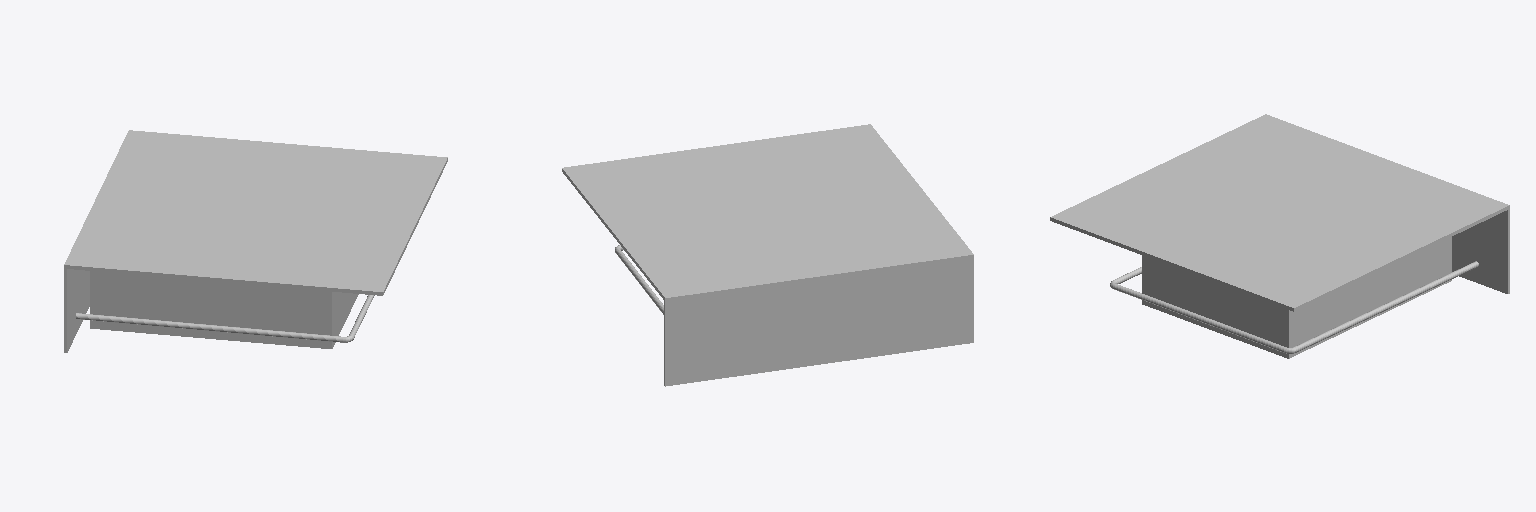
The model's file is bookshelf_sidetable.obj.
The picture shows the model from 3 angles: view 1: azimuth 30°, elevation 25°; view 2: azimuth 150°, elevation 25°; view 3: azimuth 270°, elevation 25°; orthographic projection.
Parts seen in each view (by area): view 1: bookshelf_side; view 2: bookshelf_side; view 3: bookshelf_side.
Part boxes in pixels (bbox=[...]): bookshelf_side: bbox=[64, 130, 447, 352]; bookshelf_side: bbox=[562, 124, 973, 386]; bookshelf_side: bbox=[1050, 114, 1509, 358].
Size of the model in its own units: 27.1 by 5.82 by 27.1.